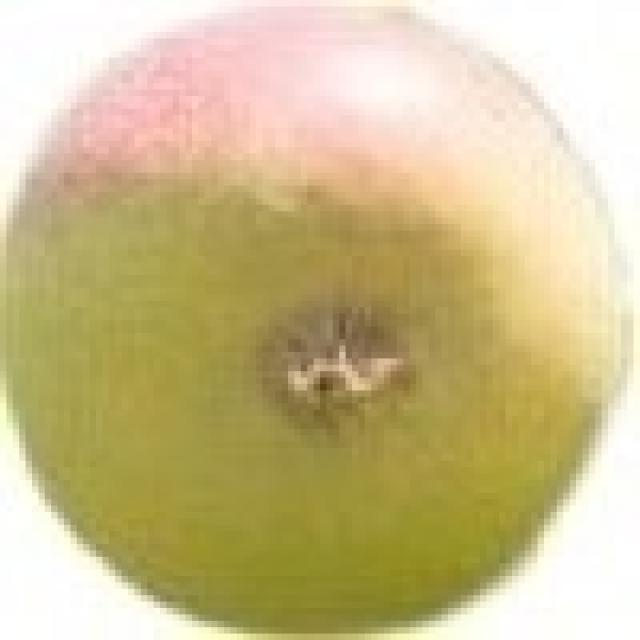50-_ripeness: (0, 8, 626, 622)
